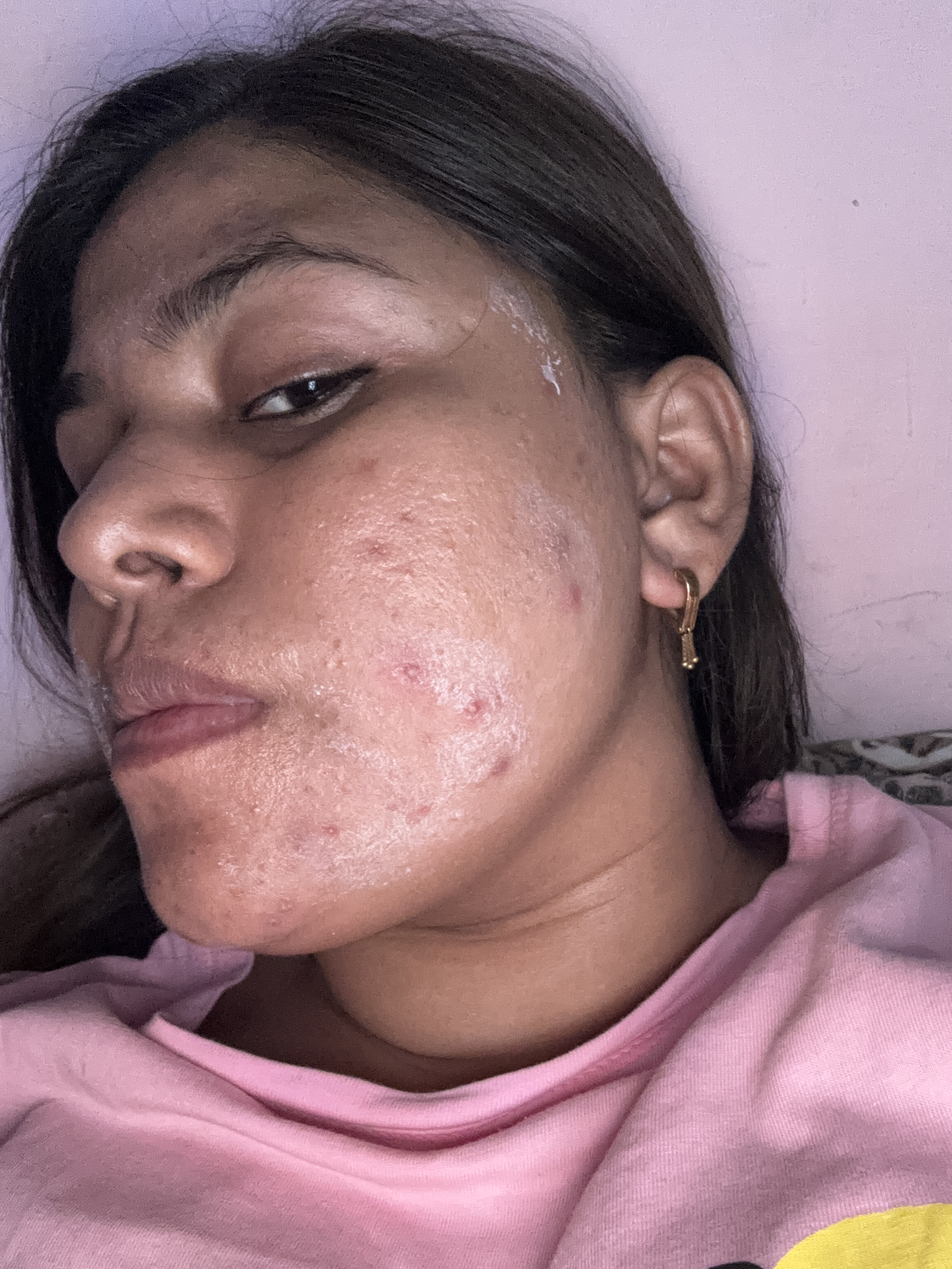closed_comedone: (318, 651, 355, 683), (241, 798, 275, 825), (317, 823, 353, 845)
pustule: (457, 690, 504, 738), (383, 655, 438, 690)
